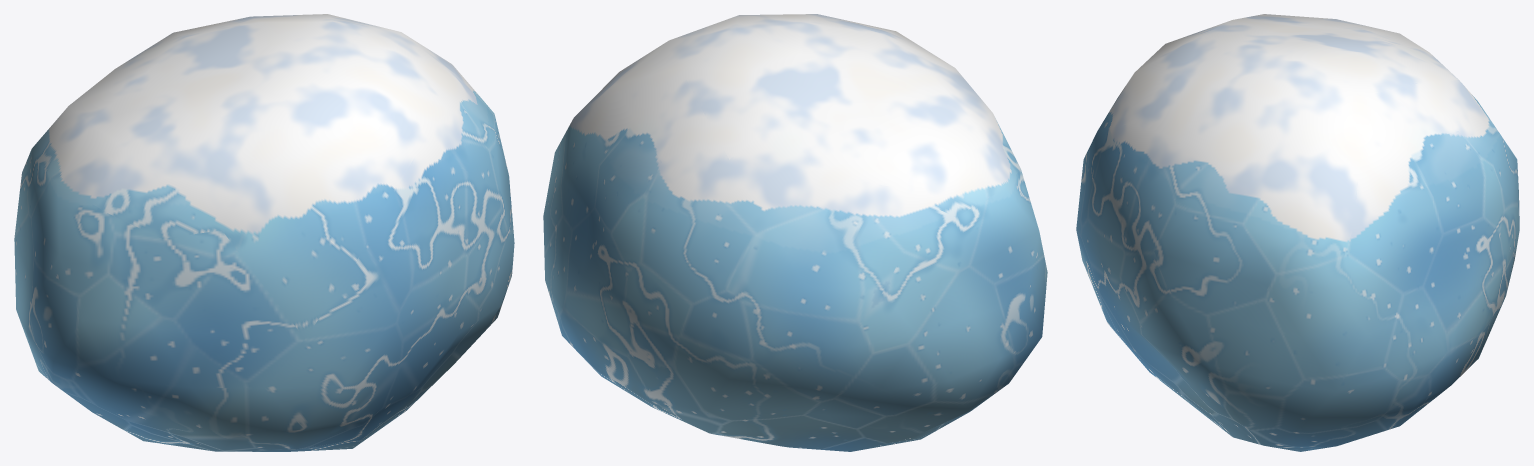
The model's file is ice_block.glb.
The picture shows the model from 3 angles, left to right: view 1: azimuth 30°, elevation 25°; view 2: azimuth 150°, elevation 25°; view 3: azimuth 270°, elevation 25°; orthographic projection. The views are drawn at different scales.
Parts seen in each view (by area): view 1: IceBlock; view 2: IceBlock; view 3: IceBlock.
Part boxes in pixels (bbox=[...]): IceBlock: bbox=[14, 14, 514, 451]; IceBlock: bbox=[543, 14, 1047, 451]; IceBlock: bbox=[1076, 14, 1519, 451].
Size of the model in its own units: 1.55 by 1.27 by 1.34.
1 material, 1 textured.
